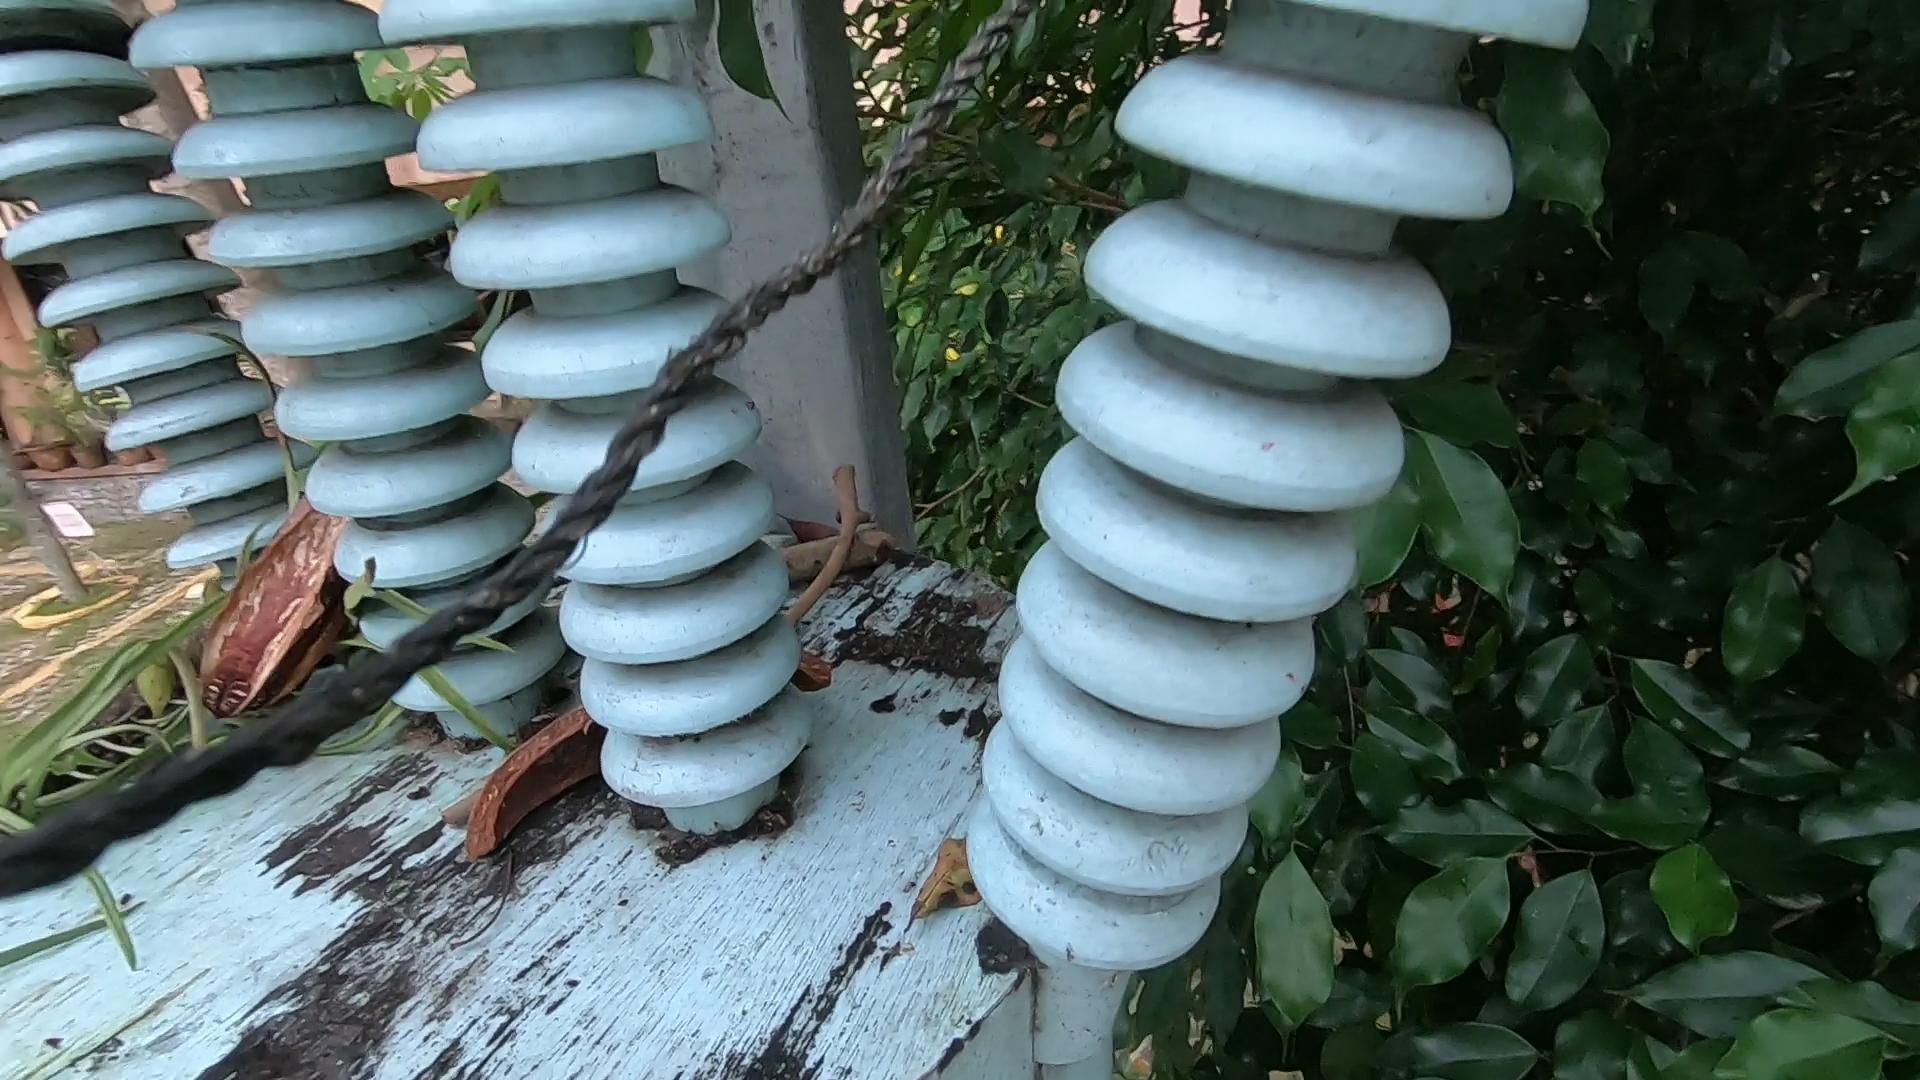branch with leaves: (20, 167, 516, 926)
leaf: (914, 815, 1060, 949)
mahogany fruit: (181, 471, 367, 803), (464, 713, 591, 895)
tree branch: (435, 749, 626, 903), (799, 426, 893, 678), (779, 534, 926, 607)
